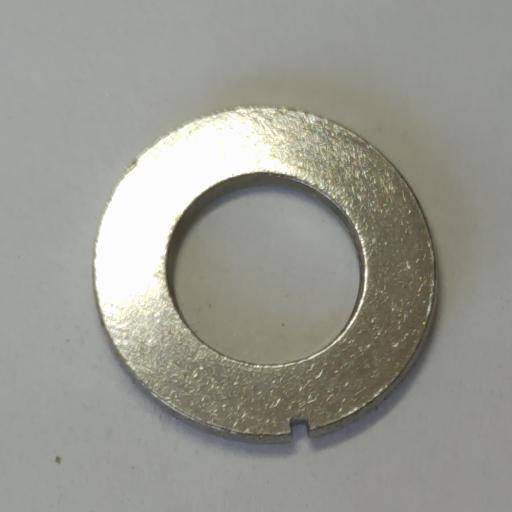burr: (286, 415, 312, 436)
